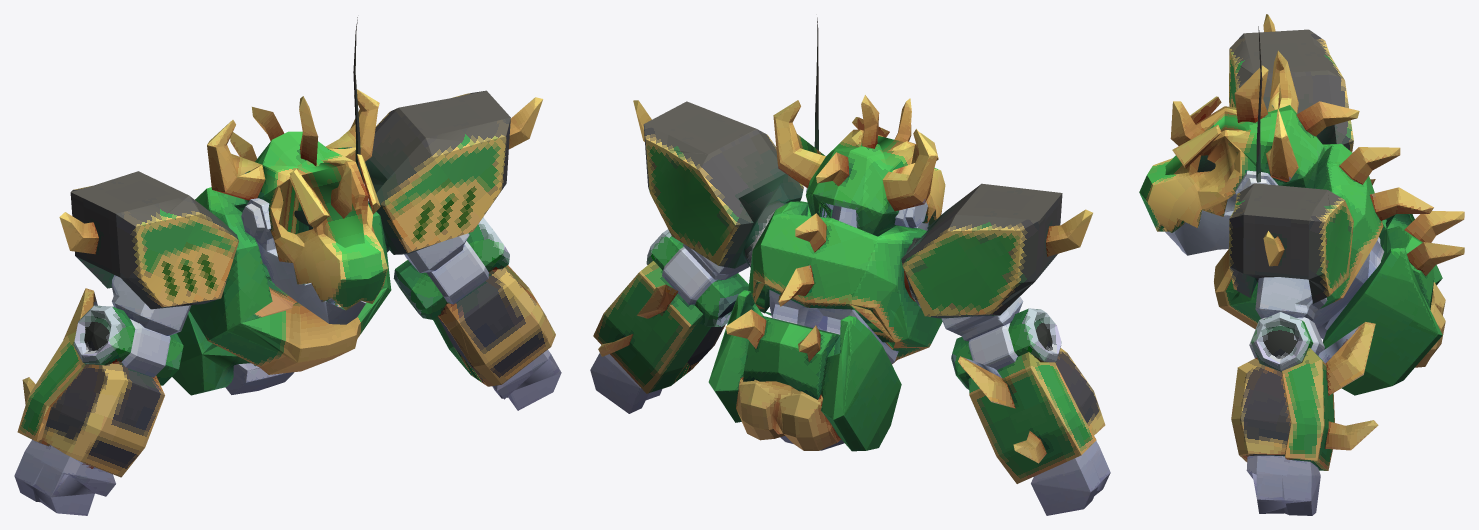
Rendered from item_robo_dino.glb.
3 renders of one model, left to right at view 1: azimuth 30°, elevation 25°; view 2: azimuth 150°, elevation 25°; view 3: azimuth 270°, elevation 25°, orthographic. The views are drawn at different scales.
Parts seen in each view (by area): view 1: MiniTrexBot; view 2: MiniTrexBot; view 3: MiniTrexBot.
Boxes of the visible parts, x1=… form: MiniTrexBot: x1=14, y1=17, x2=561, y2=515; MiniTrexBot: x1=590, y1=17, x2=1110, y2=515; MiniTrexBot: x1=1139, y1=14, x2=1464, y2=515.
Size of the model in its own units: 0.6387 by 0.5098 by 0.3636.
1 material, 1 textured.
